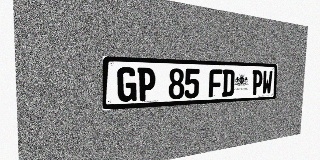5: (184, 68, 200, 99)
8: (168, 68, 185, 99)
D: (222, 69, 235, 97)
F: (209, 69, 222, 97)
G: (117, 67, 137, 102)
P: (137, 67, 156, 101), (251, 70, 263, 95)
W: (262, 70, 273, 95)
